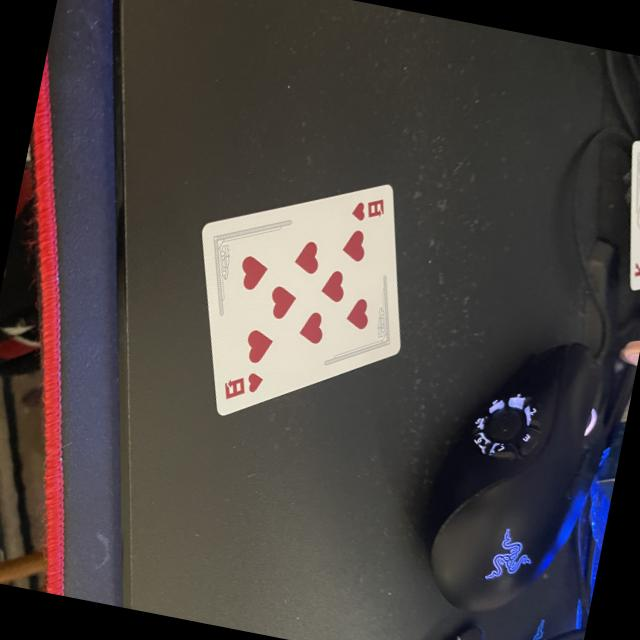8 of hearts: (194, 183, 401, 419)
